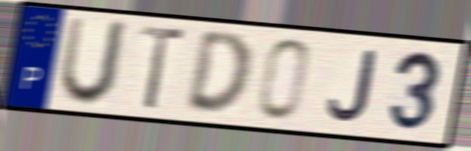0: (254, 35, 317, 125)
3: (385, 48, 446, 135)
D: (182, 30, 254, 120)
J: (324, 48, 379, 125)
T: (136, 23, 190, 113)
U: (55, 13, 133, 109)
